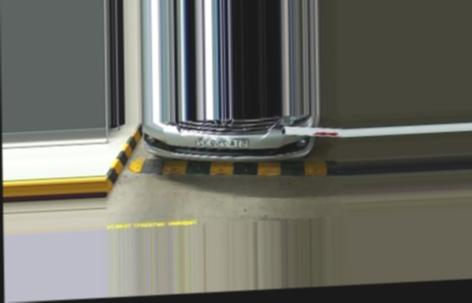License_Plate: (195, 136, 252, 151)
